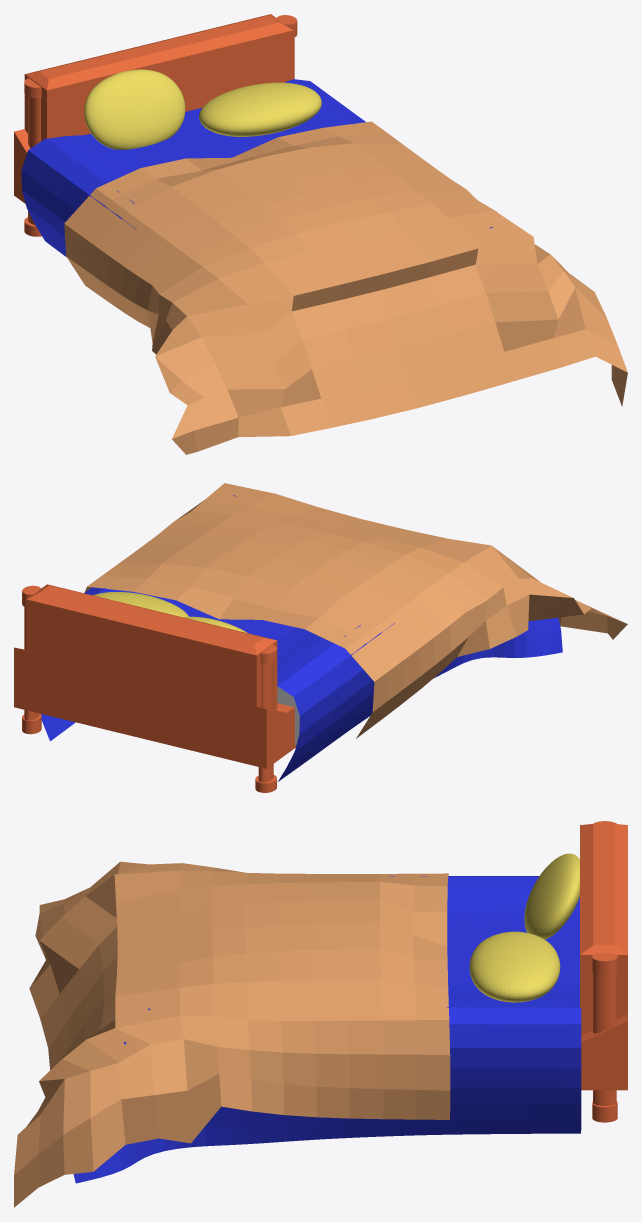
Rendered from kasur.fbx.
The picture shows the model from 3 angles, top to bottom: view 1: azimuth 30°, elevation 25°; view 2: azimuth 150°, elevation 25°; view 3: azimuth 270°, elevation 25°; orthographic projection. The views are drawn at different scales.
Visible parts, largest first — view 1: Plane.001, Cube, Plane, Cube.002, Cube.003, Cylinder.001; view 2: Plane.001, Cube, Plane, Cube.003, Cylinder.001; view 3: Plane.001, Plane, Cube, Cube.003, Cube.002, Cylinder.003, Cylinder.011.
Boxes of the visible parts, left/top/right/bottom form: Plane.001: left=64, top=121, right=627, bottom=454; Cube: left=14, top=14, right=293, bottom=203; Plane: left=21, top=79, right=567, bottom=307; Cube.002: left=84, top=69, right=185, bottom=149; Cube.003: left=199, top=82, right=321, bottom=136; Cylinder.001: left=28, top=96, right=40, bottom=224; Plane.001: left=84, top=483, right=627, bottom=738; Cube: left=14, top=584, right=296, bottom=768; Plane: left=40, top=495, right=562, bottom=781; Cube.003: left=93, top=592, right=189, bottom=617; Cylinder.001: left=258, top=661, right=273, bottom=782; Plane.001: left=14, top=861, right=450, bottom=1207; Plane: left=73, top=876, right=581, bottom=1183; Cube: left=580, top=824, right=627, bottom=1090; Cube.003: left=469, top=931, right=560, bottom=1002; Cube.002: left=524, top=853, right=579, bottom=939; Cylinder.003: left=593, top=974, right=616, bottom=1105; Cylinder.011: left=592, top=953, right=617, bottom=976.
Bounding box in the file's own units: 3058 × 1318 × 3286.
